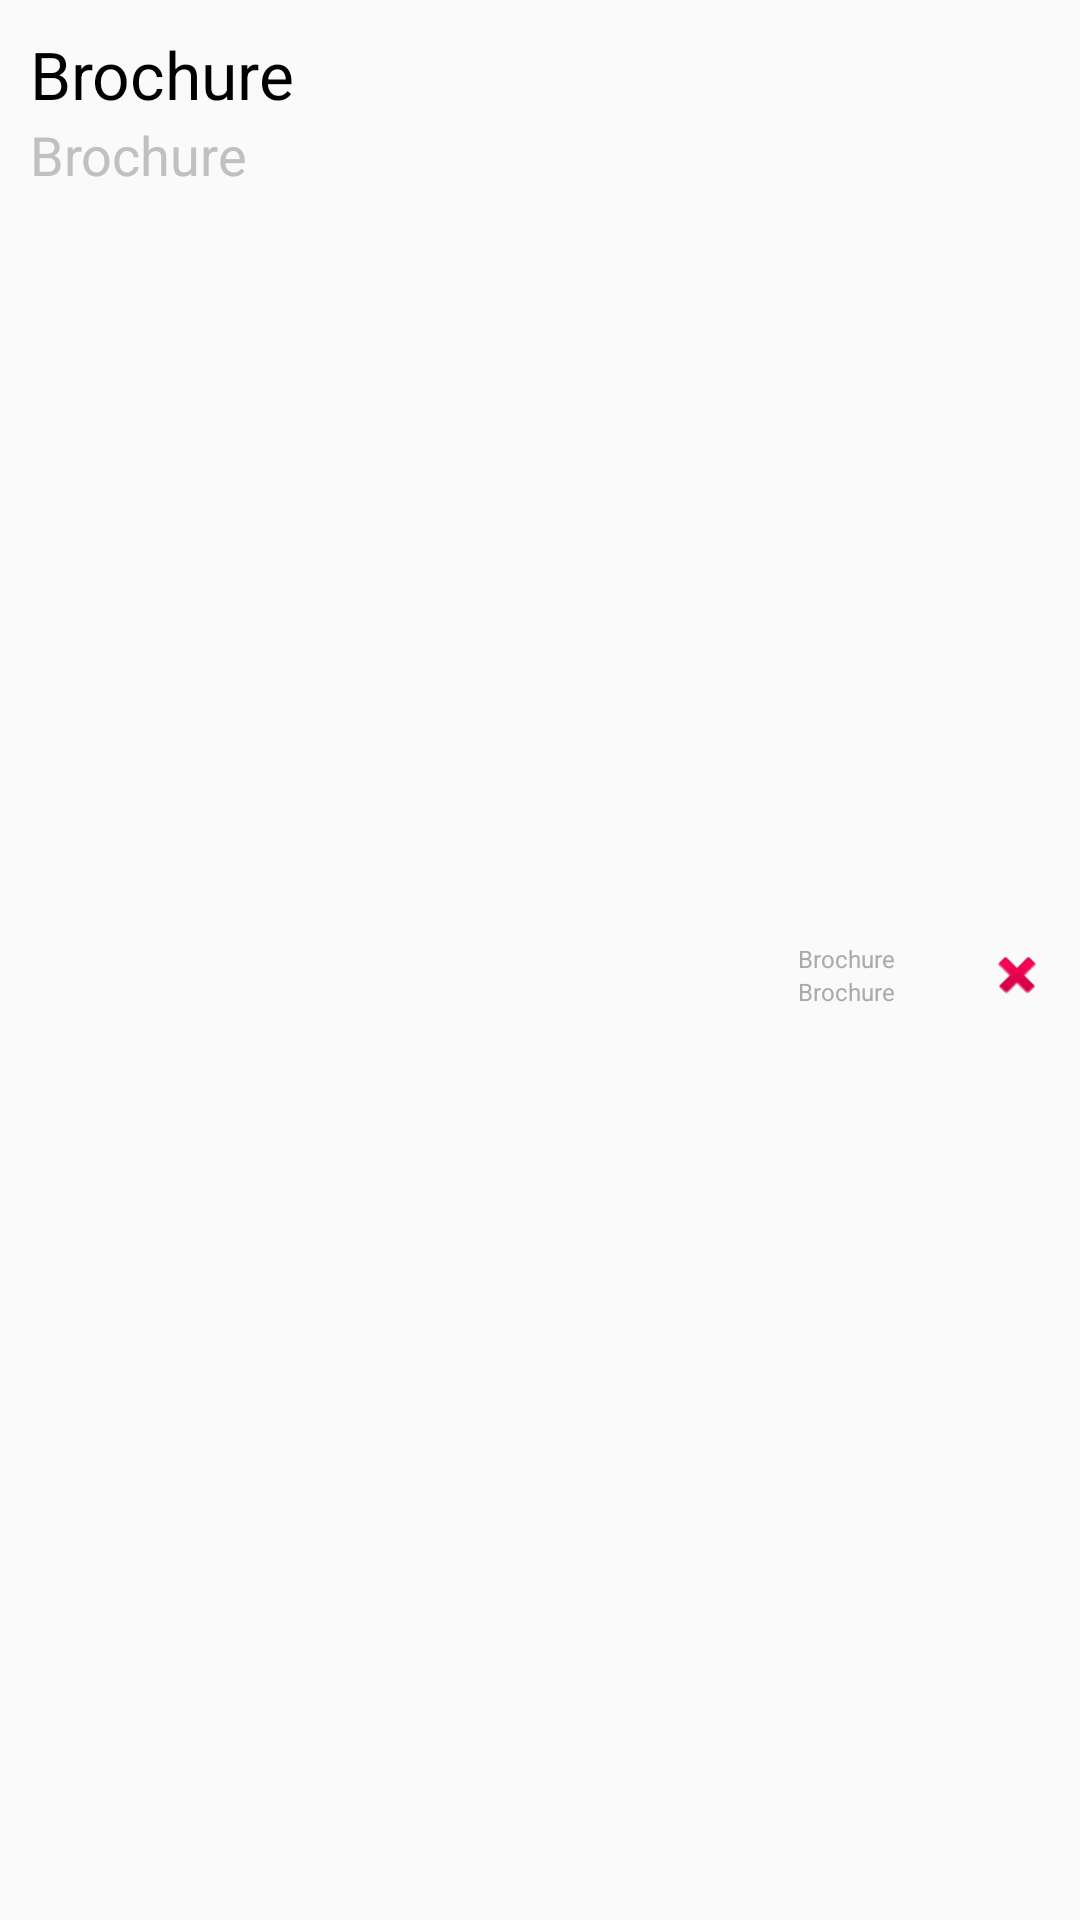

Point at icon controls on the screen. Image size 1080 x 1920, points as (x=x, y=y).
delete: (x=1017, y=975)
